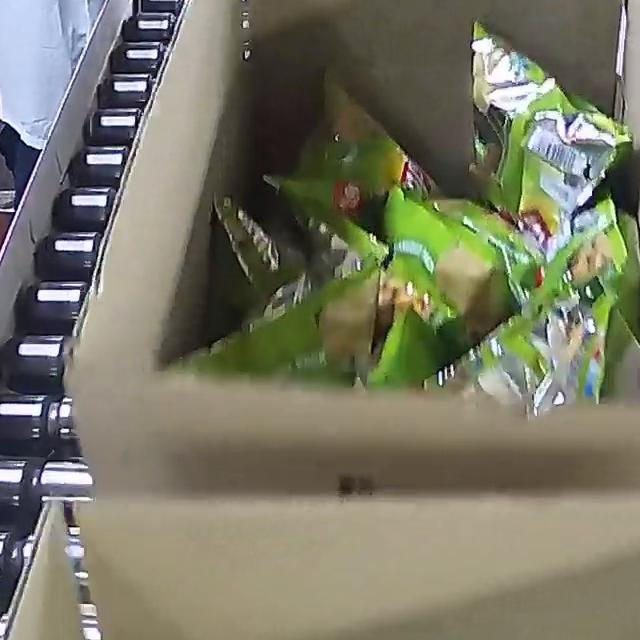yogurt: (158, 16, 640, 416)
